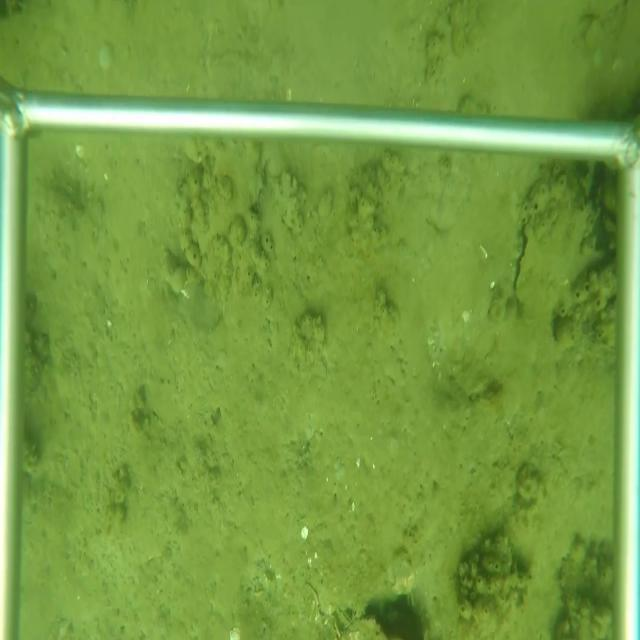Oyster-Indeterminate: (513, 177, 603, 338)
